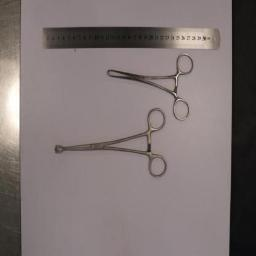Allis Tissue Forceps: (106, 50, 194, 122)
